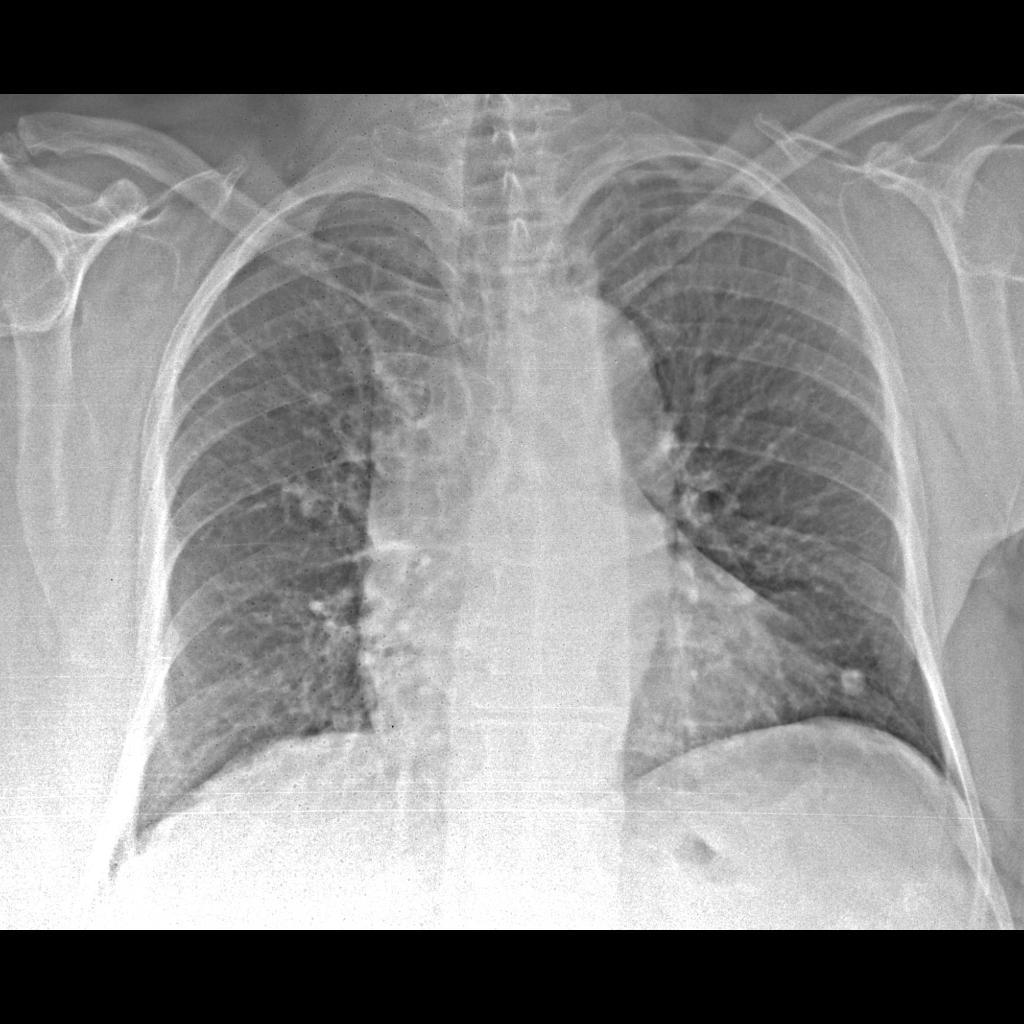Nodule: (835, 658, 872, 708)
